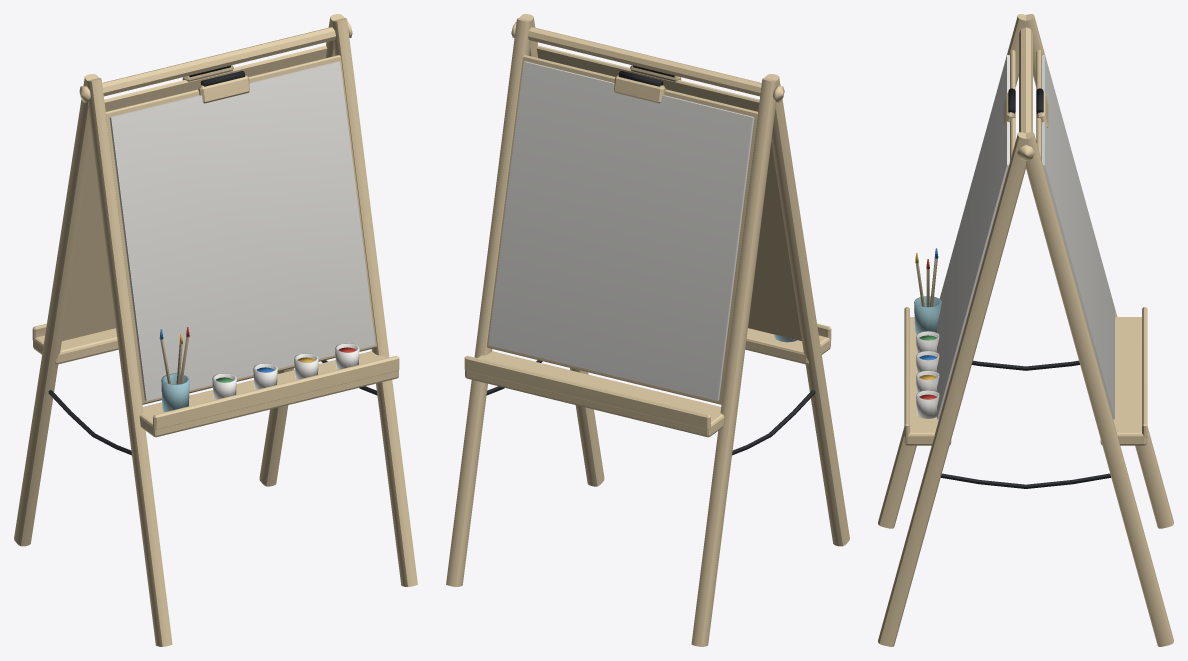
The model's file is kidsEasel.glb.
The picture shows the model from 3 angles, left to right: view 1: azimuth 30°, elevation 25°; view 2: azimuth 150°, elevation 25°; view 3: azimuth 270°, elevation 25°; orthographic projection.
Parts seen in each view (by area): view 1: body; view 2: body; view 3: body.
Boxes of the visible parts, x1,y1,x2,y2 form: body: (14,14,417,646); body: (446,14,849,646); body: (878,14,1173,646).
Size of the model in its own units: 0.662 by 1.21 by 0.6349.
